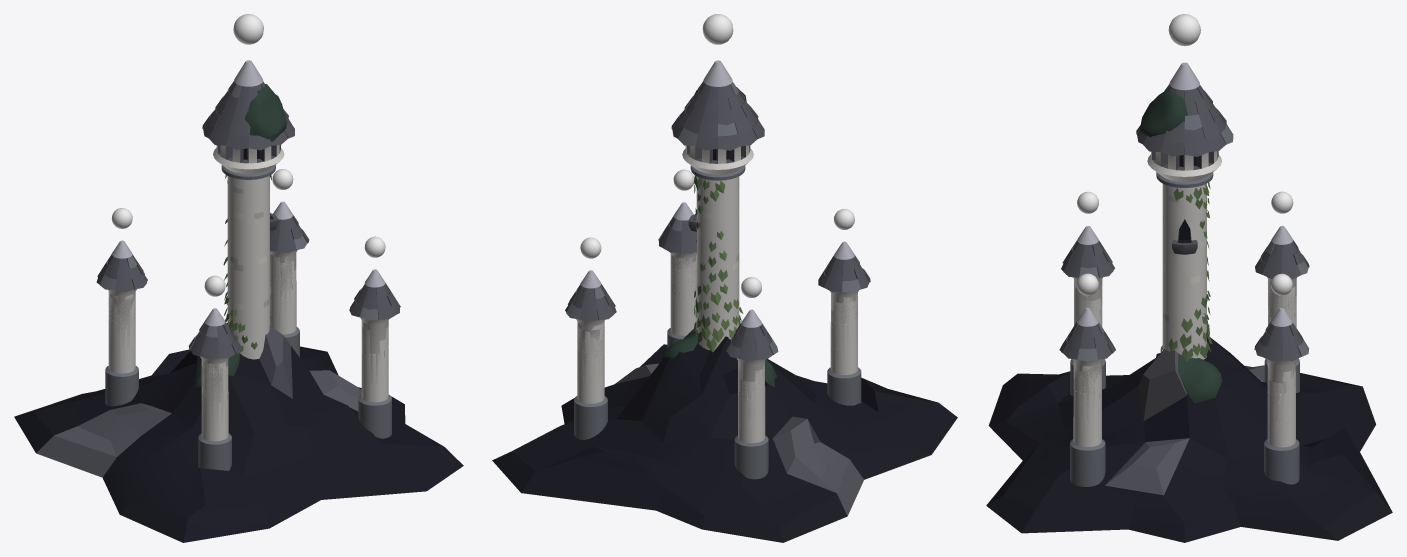
Rendered from Tower.fbx.
3 renders of one model, left to right at view 1: azimuth 30°, elevation 25°; view 2: azimuth 150°, elevation 25°; view 3: azimuth 270°, elevation 25°, orthographic. The views are drawn at different scales.
Visible parts, largest first — view 1: Plane, Main Tower, Tower 3 Step 5, Tower 4 Step 5, Tower 1 Step 5, Tower 4 Step 4, Tower 2 Step 5, Tower 3 Step 4, Tower 1 Step 3, Moss1, Tower 2 Step 4, Tower 3 Step 3 (+5 smaller); view 2: Plane, Main Tower, Tower 2 Step 5, Tower 3 Step 5, Tower 4 Step 5, Tower 2 Step 4, Plane.052, Tower 1 Step 5, Tower 3 Step 3, Tower 1 Step 4, Tower 4 Step 4, Tower 4 Step 3 (+6 smaller); view 3: Plane, Main Tower, Tower 1 Step 5, Tower 2 Step 5, Tower 3 Step 5, Tower 1 Step 4, Tower 4 Step 5, Tower 2 Step 3, Tower 1 Step 3, Tower 2 Step 4, Moss1, Moss2 (+6 smaller).
Boxes of the visible parts, box(x1,y1,x2,y2) form: Plane: box(14, 326, 463, 542); Main Tower: box(202, 60, 294, 359); Tower 3 Step 5: box(96, 240, 147, 373); Tower 4 Step 5: box(188, 308, 241, 440); Tower 1 Step 5: box(349, 269, 400, 400); Tower 4 Step 4: box(198, 362, 231, 470); Tower 2 Step 5: box(270, 201, 309, 334); Tower 3 Step 4: box(105, 293, 138, 406); Tower 1 Step 3: box(358, 346, 391, 438); Moss1: box(244, 84, 286, 141); Tower 2 Step 4: box(270, 254, 298, 353); Tower 3 Step 3: box(105, 318, 138, 406); Plane: box(492, 329, 957, 542); Main Tower: box(671, 60, 764, 351); Tower 2 Step 5: box(565, 270, 616, 403); Tower 3 Step 5: box(725, 309, 778, 437); Tower 4 Step 5: box(818, 241, 870, 374); Tower 2 Step 4: box(574, 321, 607, 439); Plane.052: box(693, 175, 743, 351); Tower 1 Step 5: box(658, 202, 696, 335); Tower 3 Step 3: box(734, 386, 768, 479); Tower 1 Step 4: box(667, 255, 696, 347); Tower 4 Step 4: box(828, 293, 861, 405); Tower 4 Step 3: box(827, 321, 861, 405); Plane: box(986, 336, 1392, 542); Main Tower: box(1136, 62, 1233, 359); Tower 1 Step 5: box(1059, 307, 1115, 445); Tower 2 Step 5: box(1254, 308, 1309, 444); Tower 3 Step 5: box(1255, 226, 1309, 325); Tower 1 Step 4: box(1071, 364, 1105, 486); Tower 4 Step 5: box(1061, 226, 1114, 319); Tower 2 Step 3: box(1264, 389, 1299, 484); Tower 1 Step 3: box(1070, 389, 1104, 486); Tower 2 Step 4: box(1264, 364, 1299, 484); Moss1: box(1139, 89, 1187, 137); Moss2: box(1177, 353, 1222, 403).
Size of the model in its own units: 2449 by 3055 by 2516.
2 materials, 1 textured.
